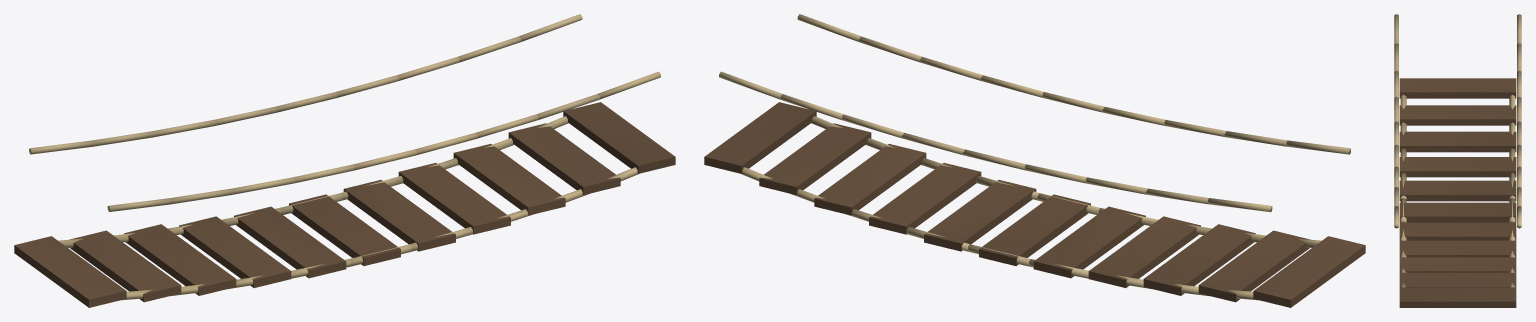
Rendered from rope_bridge_short.glb.
3 renders of one model, left to right at view 1: azimuth 30°, elevation 25°; view 2: azimuth 150°, elevation 25°; view 3: azimuth 270°, elevation 25°, orthographic. The views are drawn at different scales.
Parts seen in each view (by area): view 1: rope_bridge_short; view 2: rope_bridge_short; view 3: rope_bridge_short.
Boxes of the visible parts, x1,y1,x2,y2 form: rope_bridge_short: (14, 14, 675, 307); rope_bridge_short: (704, 14, 1365, 307); rope_bridge_short: (1394, 14, 1521, 307).
Size of the model in its own units: 5.34 by 1.08 by 1.29.
